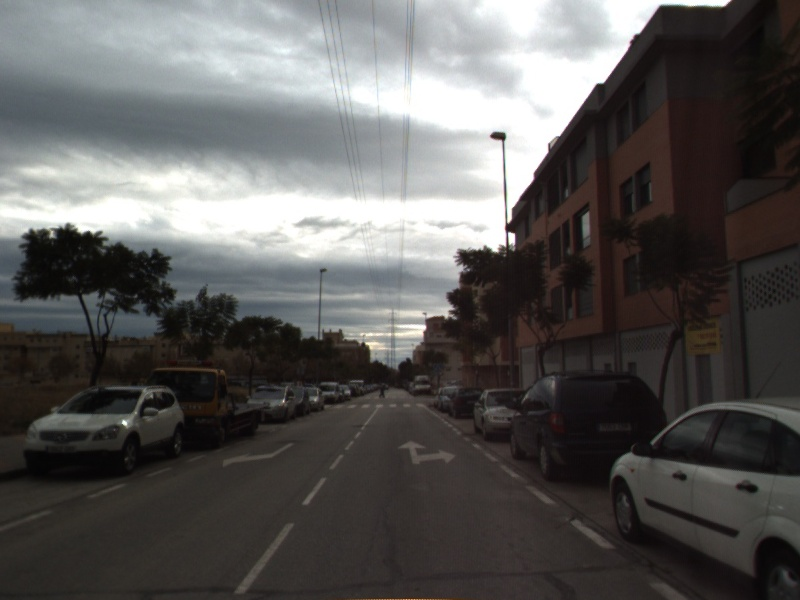STRAIGHT_RIGHT: (396, 438, 457, 467)
